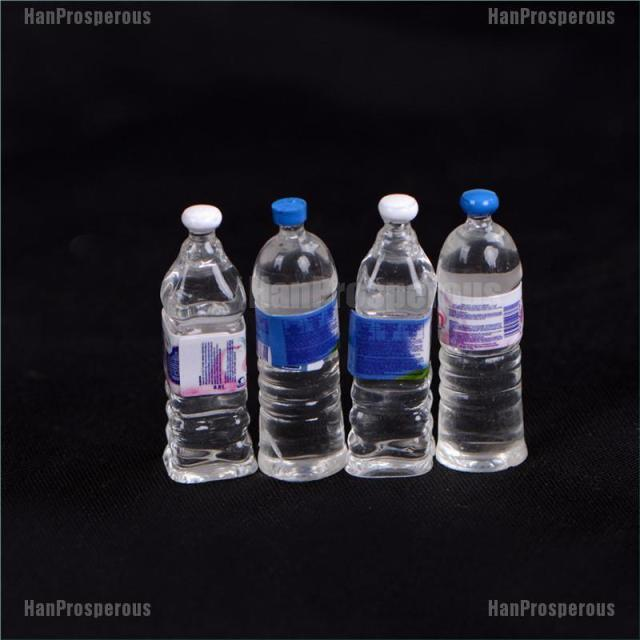bottle: (418, 184, 544, 480), (335, 187, 454, 484), (146, 195, 264, 492), (238, 190, 352, 488)
